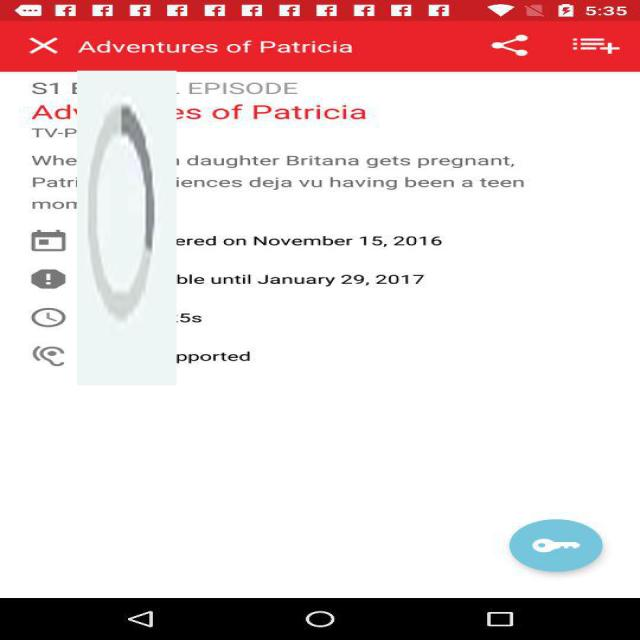misdirection: (77, 71, 177, 385)
